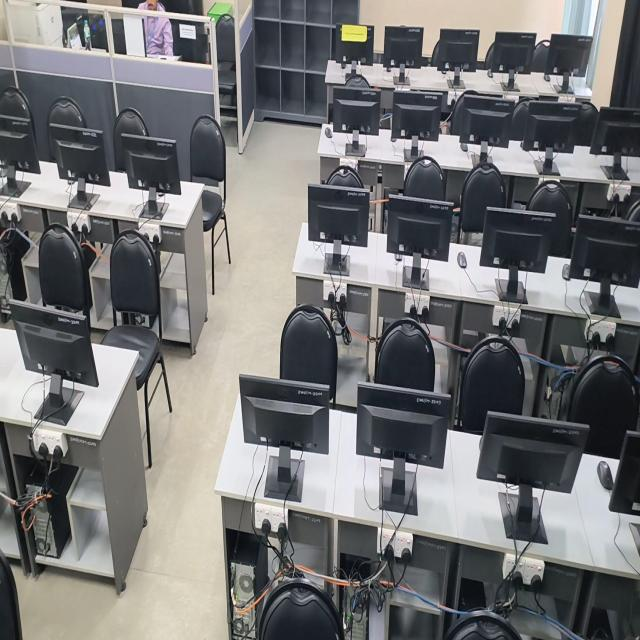Chair: (101, 230, 172, 468), (567, 356, 638, 459), (191, 115, 231, 295), (456, 336, 525, 434), (279, 305, 338, 403), (39, 223, 92, 319), (374, 318, 435, 391), (457, 158, 506, 244), (525, 180, 573, 257), (209, 5, 236, 115), (48, 97, 87, 169), (114, 108, 148, 169), (403, 155, 446, 200), (574, 103, 599, 146), (503, 98, 529, 139), (325, 165, 364, 188), (531, 39, 550, 72), (347, 172, 350, 175)
Cpu: (341, 564, 390, 639), (34, 494, 70, 558), (230, 562, 256, 639), (50, 466, 77, 490), (26, 481, 40, 495)
Monitor: (476, 411, 589, 493), (356, 383, 450, 469), (479, 207, 556, 302), (12, 303, 99, 386), (239, 375, 329, 453), (568, 215, 640, 309), (386, 195, 453, 261), (523, 100, 581, 171), (308, 183, 370, 245), (50, 123, 110, 185), (391, 90, 442, 160), (590, 107, 640, 178), (121, 136, 181, 193), (459, 94, 515, 147), (609, 431, 640, 514), (332, 85, 380, 135), (0, 114, 40, 173), (544, 34, 592, 76), (492, 31, 536, 73), (382, 26, 424, 69), (438, 29, 479, 71), (334, 23, 373, 65), (329, 244, 346, 273)
Mouse: (597, 460, 613, 491), (457, 251, 467, 268), (562, 264, 570, 280), (324, 127, 332, 138), (460, 143, 468, 151), (544, 73, 550, 81), (487, 69, 493, 77)
